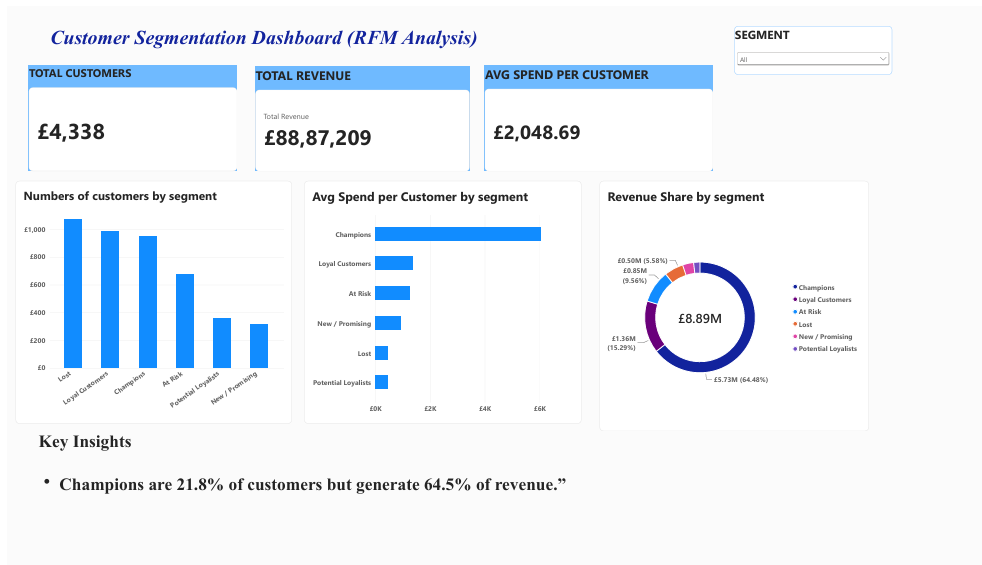

What the dashboard file says about the page in this screenshot:
{"tool":"powerbi","page":{"name":"Page 1","canvas":[1920,1080],"ordinal":0},"visuals":[{"type":"cardVisual","title":"TOTAL CUSTOMERS","fields":{"Data":["public rfm_segments.Total Customers"]},"box":[45.3,125.6,448.7,228.5],"z":0},{"type":"cardVisual","title":"TOTAL REVENUE","fields":{"Data":["public rfm_segments.Total Revenue"]},"box":[533.1,127.6,461.1,226.4],"z":1},{"type":"cardVisual","title":"AVG SPEND PER CUSTOMER","fields":{"Data":["public rfm_segments.Avg Spend per Customer"]},"box":[1027.1,125.6,491.9,228.5],"z":2},{"type":"clusteredColumnChart","title":"Numbers of customers  by segment","fields":{"Category":["public rfm_segments.segment"],"Y":["public rfm_segments.Total Customers"]},"box":[16.5,374.6,594.9,522.8],"z":3},{"type":"clusteredBarChart","fields":{"Category":["public rfm_segments.segment"],"Y":["public rfm_segments.Avg Spend per Customer"]},"box":[638.1,374.6,596.9,522.8],"z":4},{"type":"donutChart","title":" Revenue Share by segment","fields":{"Category":["public rfm_segments.segment"],"Y":["public rfm_segments.Total Revenue"]},"box":[1274.1,374.6,580.4,539.3],"z":5},{"type":"textbox","box":[45.3,41.2,1615.8,84.4],"z":6},{"type":"slicer","title":"SEGMENT","fields":{"Values":["public rfm_segments.segment"]},"box":[1564.3,41.2,339.6,105],"z":7},{"type":"textbox","box":[45.3,907.7,1383.2,148.2],"z":8}]}

Visuals, with their boxes in screenshot pixels (x1, y1, x2, y2), scaled from the page's 1920x1080 canvas onto the 982x565 screenshot:
"TOTAL CUSTOMERS" cardVisual: {"left": 23, "top": 66, "right": 253, "bottom": 185}
"TOTAL REVENUE" cardVisual: {"left": 273, "top": 67, "right": 508, "bottom": 185}
"AVG SPEND PER CUSTOMER" cardVisual: {"left": 525, "top": 66, "right": 777, "bottom": 185}
"Numbers of customers  by segment" clusteredColumnChart: {"left": 8, "top": 196, "right": 313, "bottom": 469}
clusteredBarChart - public rfm_segments.segment x public rfm_segments.Avg Spend per Customer: {"left": 326, "top": 196, "right": 632, "bottom": 469}
" Revenue Share by segment" donutChart: {"left": 652, "top": 196, "right": 948, "bottom": 478}
textbox: {"left": 23, "top": 22, "right": 850, "bottom": 66}
"SEGMENT" slicer: {"left": 800, "top": 22, "right": 974, "bottom": 76}
textbox: {"left": 23, "top": 475, "right": 731, "bottom": 552}
